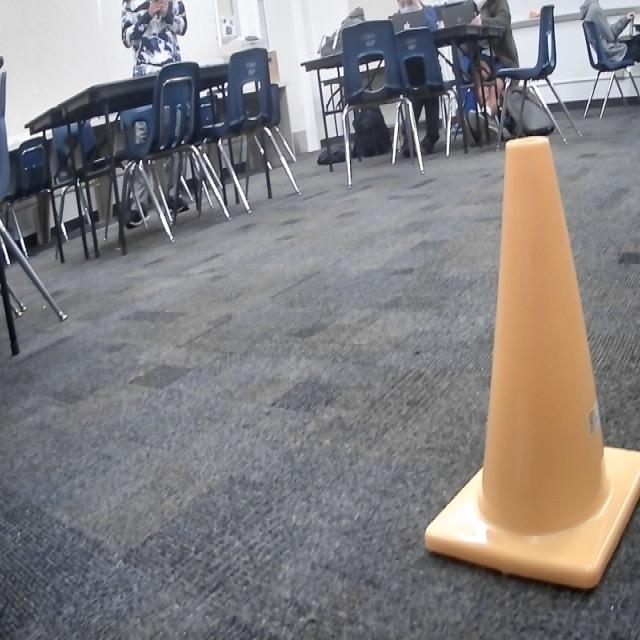cone: (424, 135, 640, 594)
